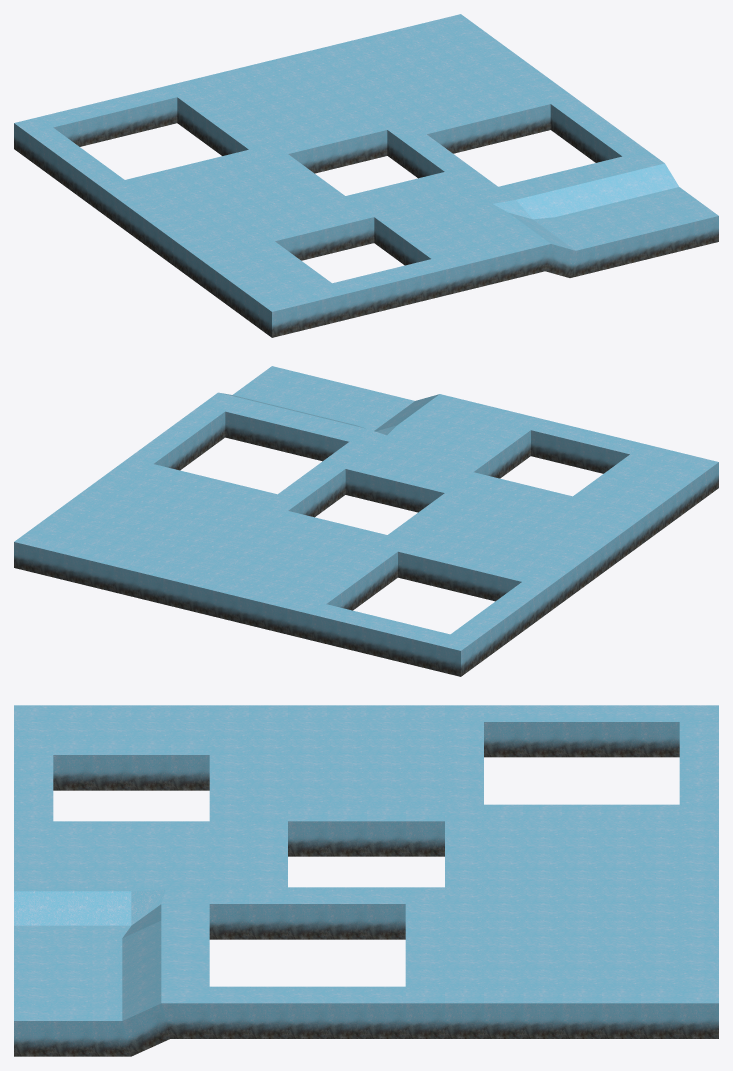
Rendered from Stage_Block_3_5_2F.fbx.
3 views of the same model, one above another, from view 1: azimuth 30°, elevation 25°; view 2: azimuth 150°, elevation 25°; view 3: azimuth 270°, elevation 25° (orthographic). The views are drawn at different scales.
Parts seen in each view (by area): view 1: group25_Winter_Block12; view 2: group25_Winter_Block12; view 3: group25_Winter_Block12.
Part boxes in pixels (bbox=[...]): group25_Winter_Block12: bbox=[14, 14, 718, 337]; group25_Winter_Block12: bbox=[14, 366, 718, 676]; group25_Winter_Block12: bbox=[14, 705, 718, 1056].
Size of the model in its own units: 3600 by 300 by 3600.
1 material, 1 textured.
